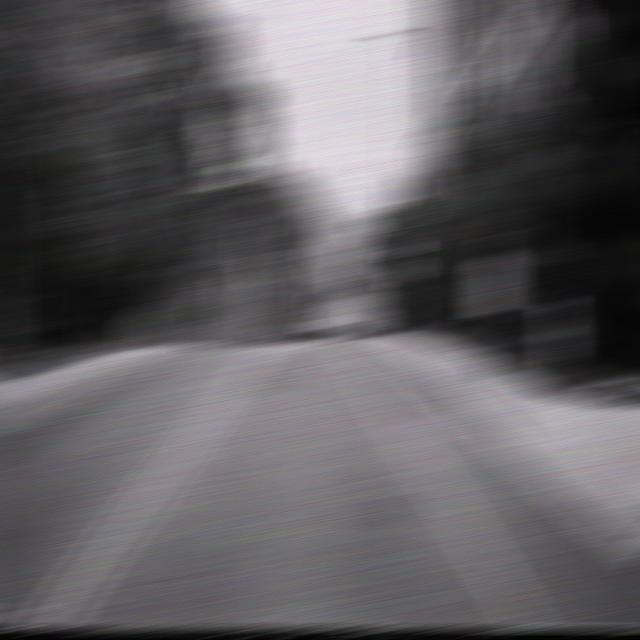pedestrianCrossing: (387, 259, 420, 285)
